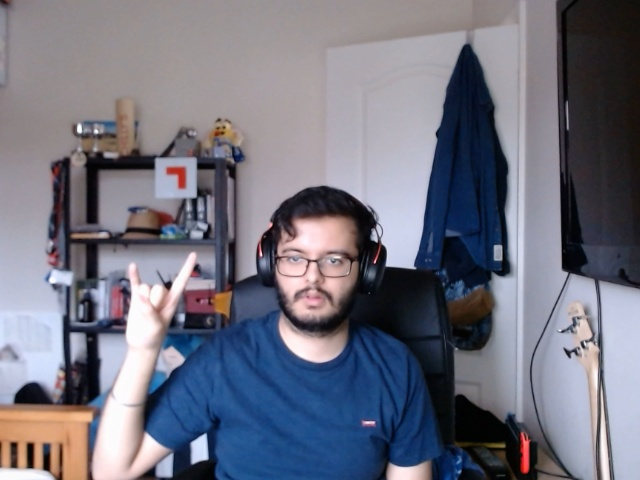Rock on: (102, 228, 215, 360)
